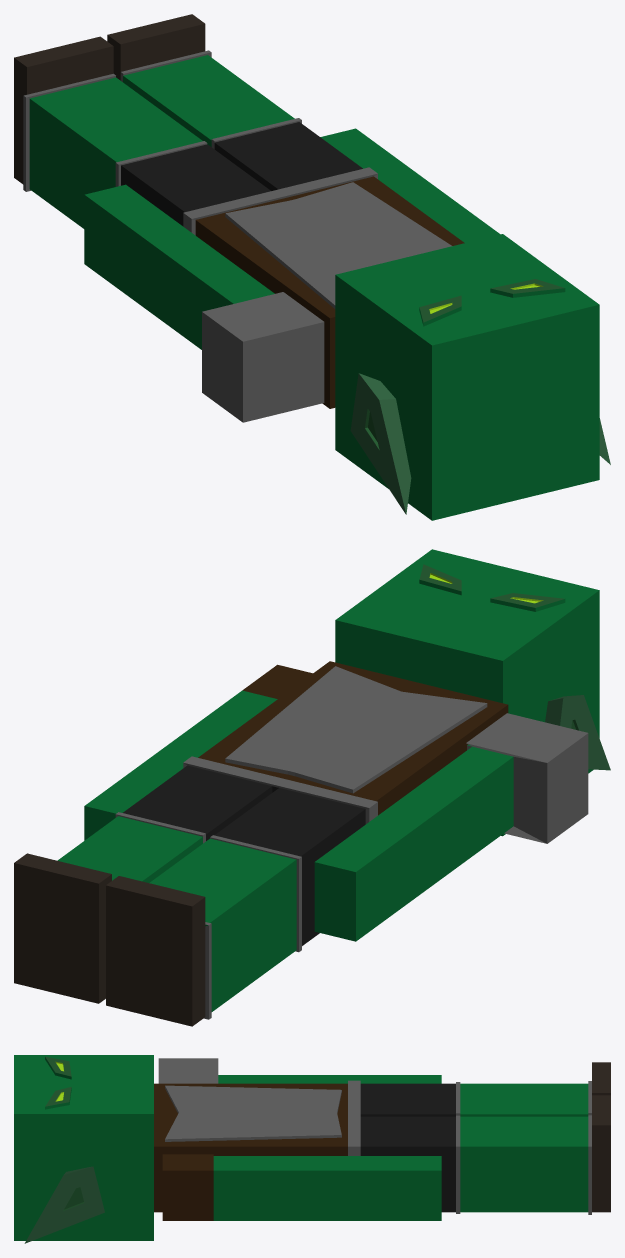
File: goblin_enemy.fbx
3 views of the same model, one above another, from view 1: azimuth 30°, elevation 25°; view 2: azimuth 150°, elevation 25°; view 3: azimuth 270°, elevation 25° (orthographic). The views are drawn at different scales.
Parts seen in each view (by area): view 1: Cube; view 2: Cube; view 3: Cube.
Boxes of the visible parts, bbox=[...] form: Cube: bbox=[14, 14, 610, 520]; Cube: bbox=[14, 549, 610, 1026]; Cube: bbox=[14, 1055, 610, 1243].
Bounding box in the file's own units: 120 × 66.55 × 278.
